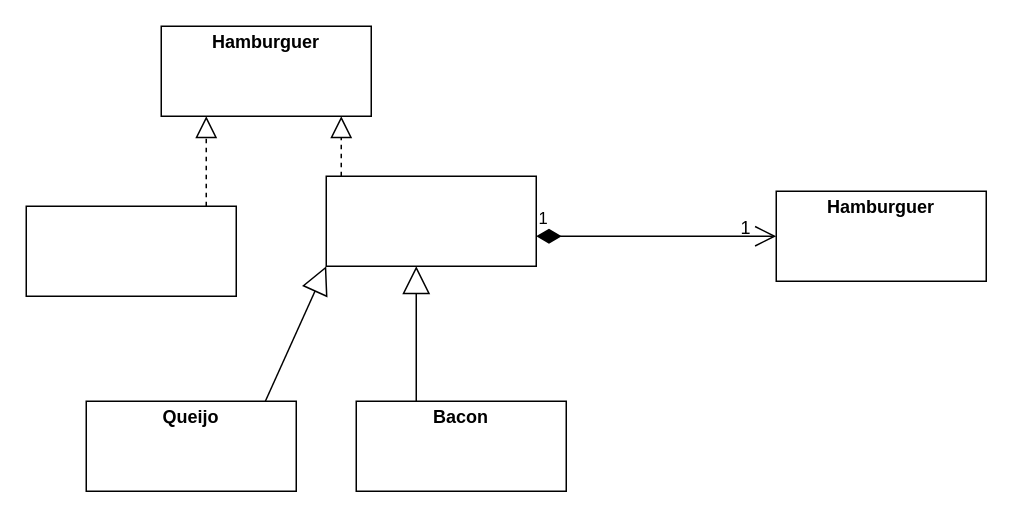
Image size: 1013x518. Some labels were removed from this diagram. Each missing label, with the centre of its shape:
HamburguerBase: point (130, 250)
HamburguerDecorator: point (430, 220)
